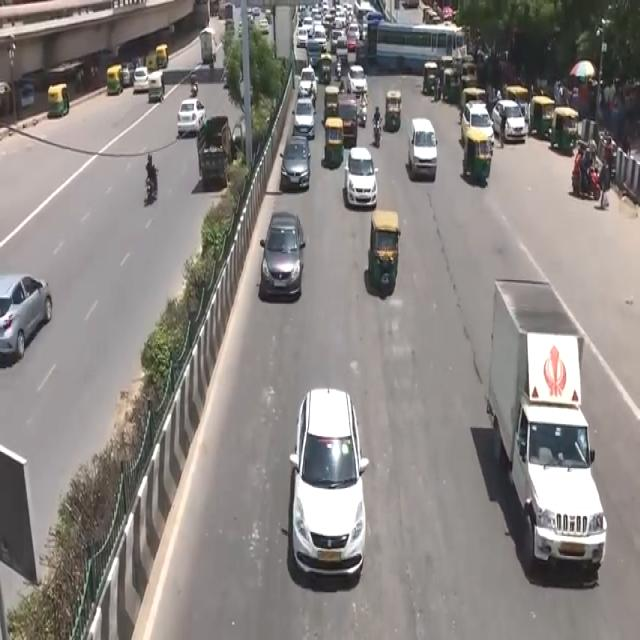BUS: (372, 23, 468, 78)
TRUCK: (491, 287, 606, 585)
